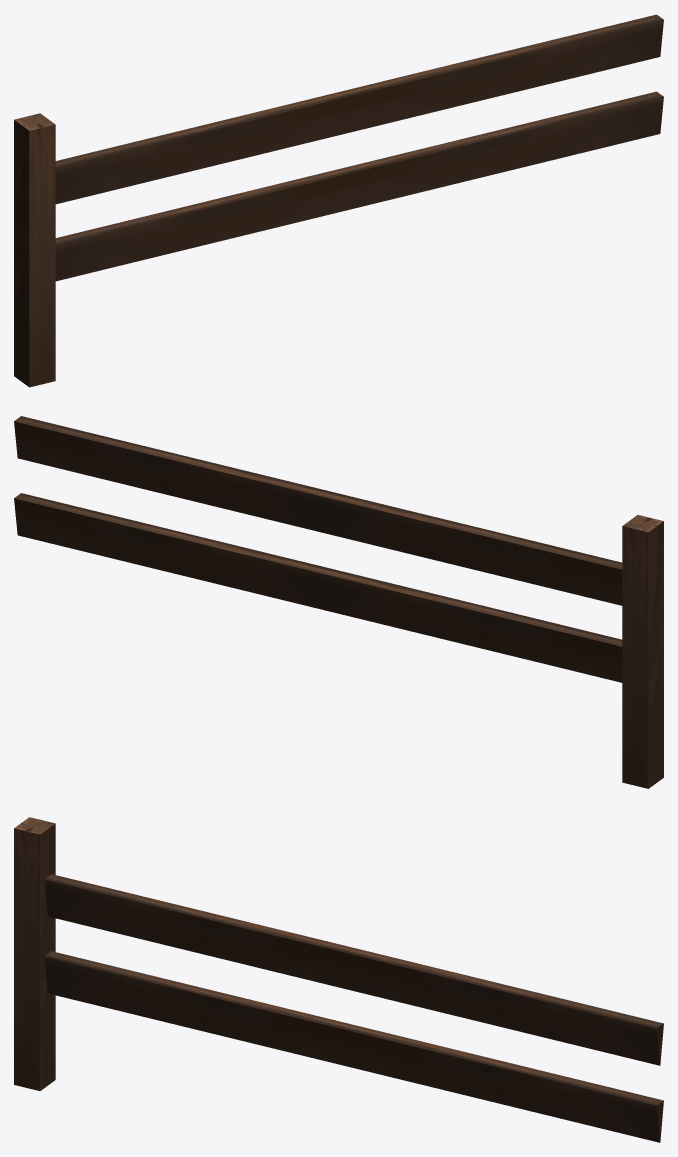
Rendered from OutdoorM_Fence_a_connect.FBX.
The picture shows the model from 3 angles, top to bottom: view 1: azimuth 30°, elevation 25°; view 2: azimuth 150°, elevation 25°; view 3: azimuth 330°, elevation 25°; orthographic projection.
Parts seen in each view (by area): view 1: OutdoorM_Fence_a_connect; view 2: OutdoorM_Fence_a_connect; view 3: OutdoorM_Fence_a_connect.
Part boxes in pixels (x1,y1,x2,y2): OutdoorM_Fence_a_connect: (14, 14, 663, 387); OutdoorM_Fence_a_connect: (14, 416, 663, 788); OutdoorM_Fence_a_connect: (14, 817, 663, 1142).
Size of the model in its own units: 35.32 by 13.56 by 1.48.
